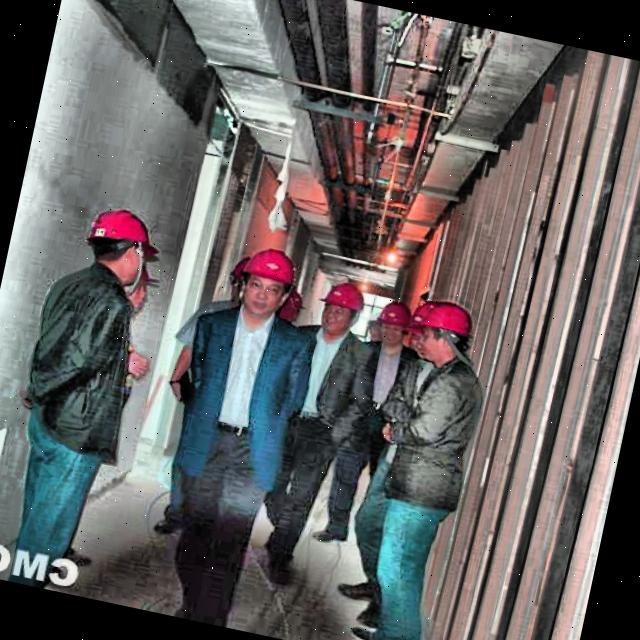helmet: (75, 200, 166, 290), (224, 234, 304, 324), (404, 292, 481, 368), (316, 272, 371, 340), (368, 297, 414, 355), (276, 284, 312, 332)
